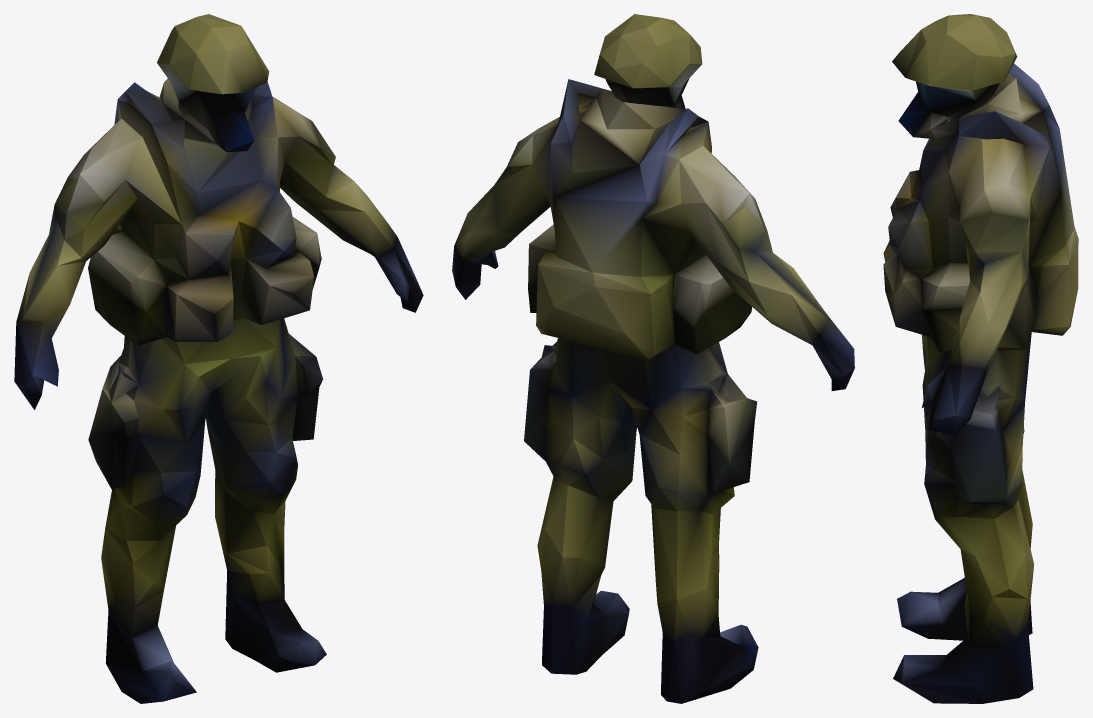
Rendered from 防化兵1000面黄色很多腰包.fbx.
The picture shows the model from 3 angles, left to right: view 1: azimuth 30°, elevation 25°; view 2: azimuth 150°, elevation 25°; view 3: azimuth 270°, elevation 25°; orthographic projection.
Visible parts, largest first — view 1: mesh_uv.obj; view 2: mesh_uv.obj; view 3: mesh_uv.obj.
Boxes of the visible parts, x1=… form: mesh_uv.obj: x1=14, y1=14, x2=423, y2=703; mesh_uv.obj: x1=452, y1=14, x2=854, y2=703; mesh_uv.obj: x1=883, y1=14, x2=1078, y2=703.
Size of the model in its own units: 73.19 by 114 by 31.36.
Materials: 1 (1 with a texture image).
